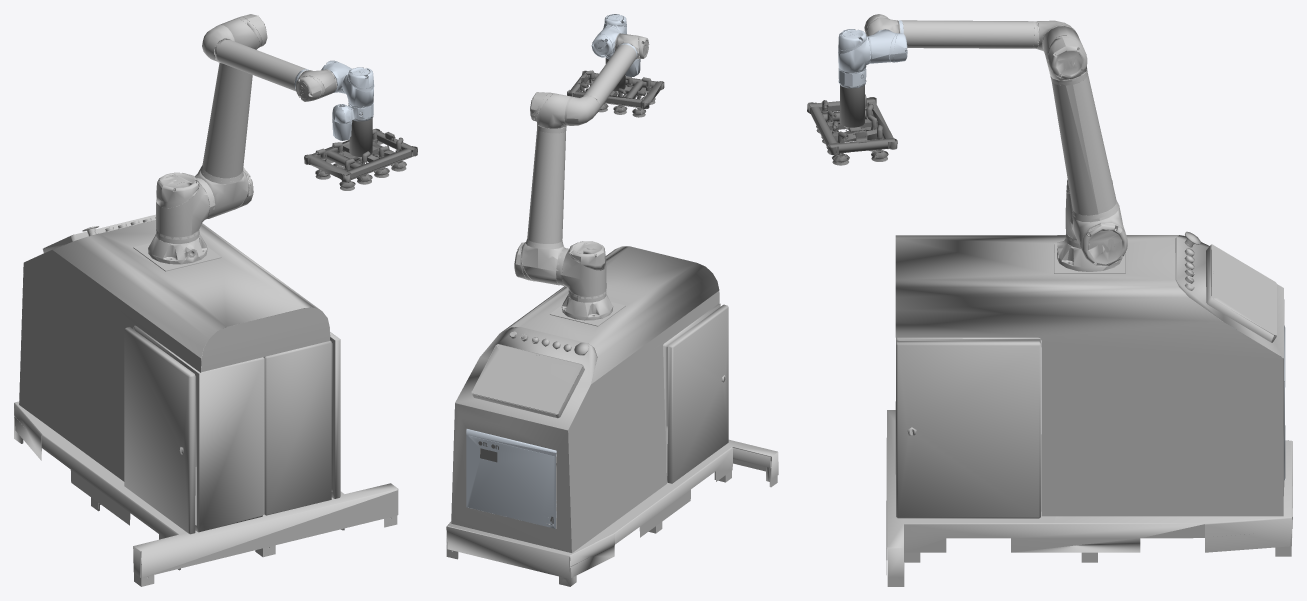
The picture shows the model from 3 angles, left to right: view 1: azimuth 30°, elevation 25°; view 2: azimuth 150°, elevation 25°; view 3: azimuth 270°, elevation 25°; orthographic projection. The views are drawn at different scales.
Parts seen in each view (by area): view 1: 00000.010.00.00.00_2.002; view 2: 00000.010.00.00.00_2.002; view 3: 00000.010.00.00.00_2.002.
Part boxes in pixels (x1,y1,x2,y2): 00000.010.00.00.00_2.002: (14,14,417,586); 00000.010.00.00.00_2.002: (446,14,778,586); 00000.010.00.00.00_2.002: (807,14,1292,586).
Bounding box in the file's own units: 1014 × 1792 × 1503.
